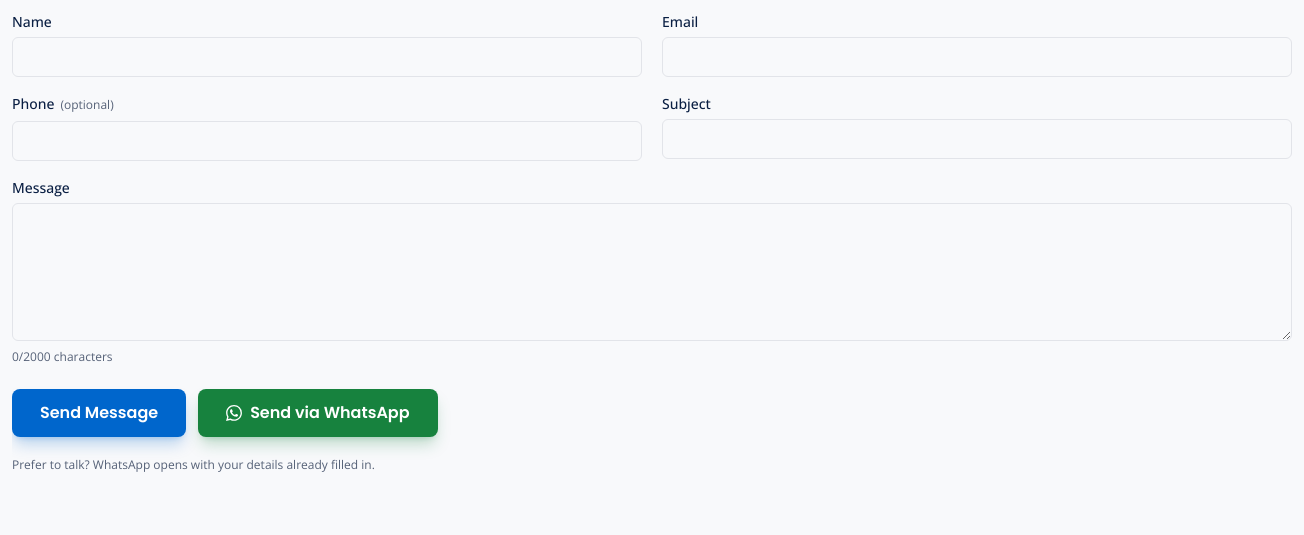
Test: ContactForm › shows validation errors and does not submit when fields are empty
Click the button "Send Message" at (99, 413), box [12, 389, 186, 437]
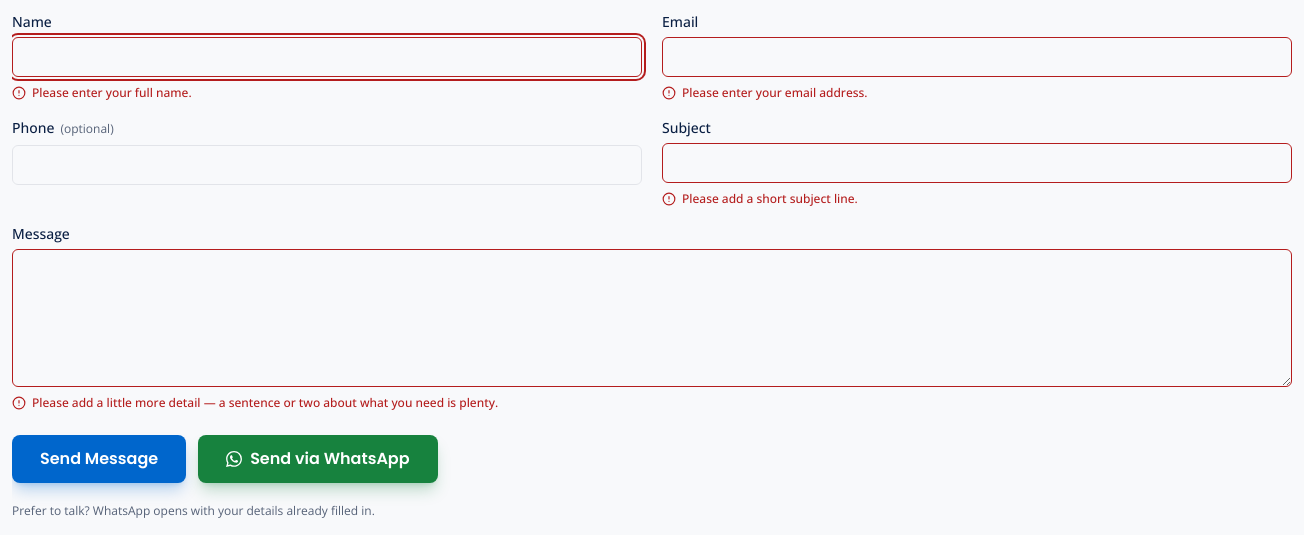
Now the message "Please enter your full name." is shown, box [12, 84, 192, 101]
Now the text "Please enter your full name." is shown, box [32, 85, 192, 101]
Now the text "Please enter your email address." is shown, box [682, 85, 868, 101]
